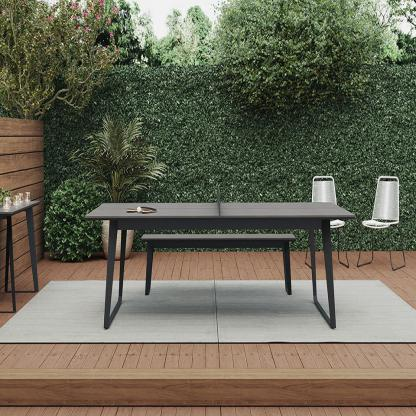table: (81, 196, 358, 332), (0, 196, 44, 319)
